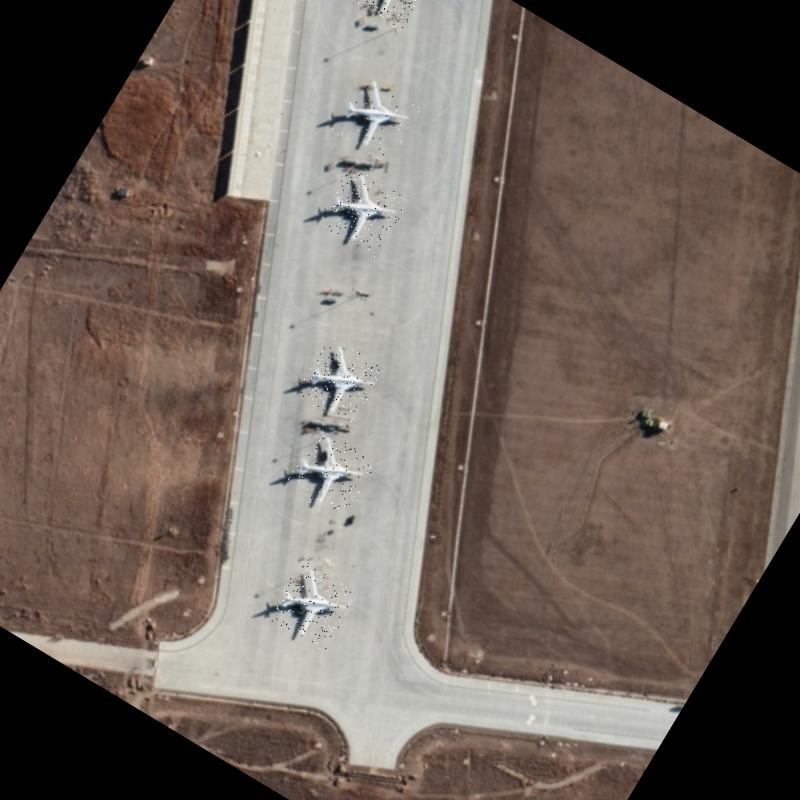A6: (316, 164, 410, 258), (266, 558, 358, 652), (330, 71, 422, 164), (284, 427, 376, 520), (294, 336, 386, 428), (346, 0, 437, 30)
